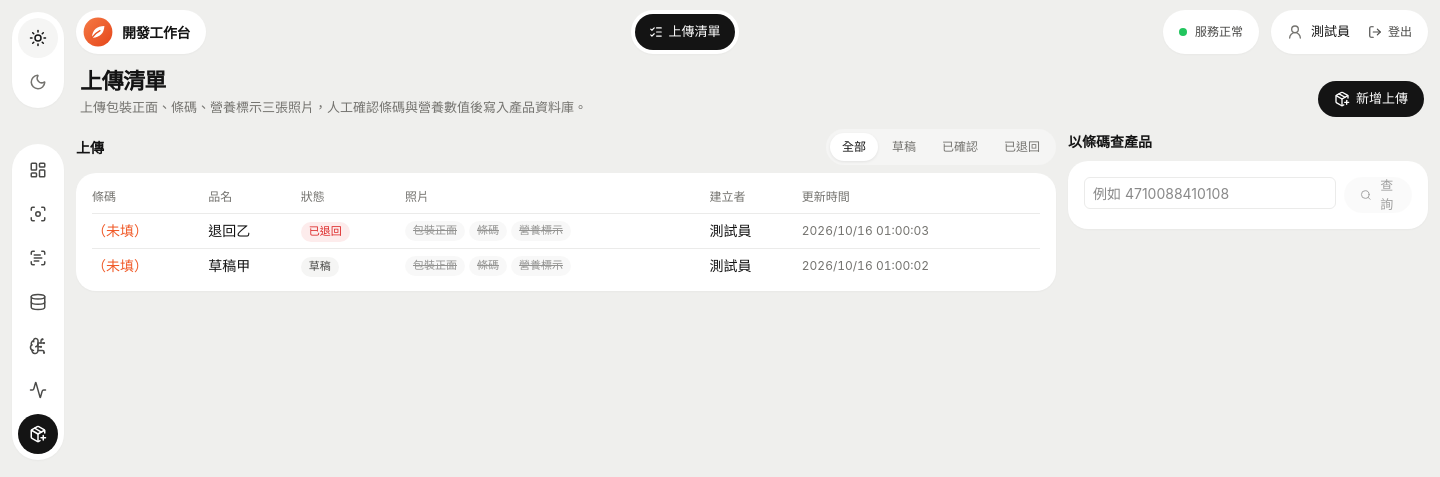
上傳清單 › 依狀態篩選
Check: the link "草稿甲" is shown, box x1=208 y1=257 x2=250 y2=274
Check: the link "退回乙" is shown, box x1=208 y1=222 x2=250 y2=239
Click the radio button labelled "已退回".
click(1022, 147)  # box x1=992 y1=133 x2=1052 y2=161
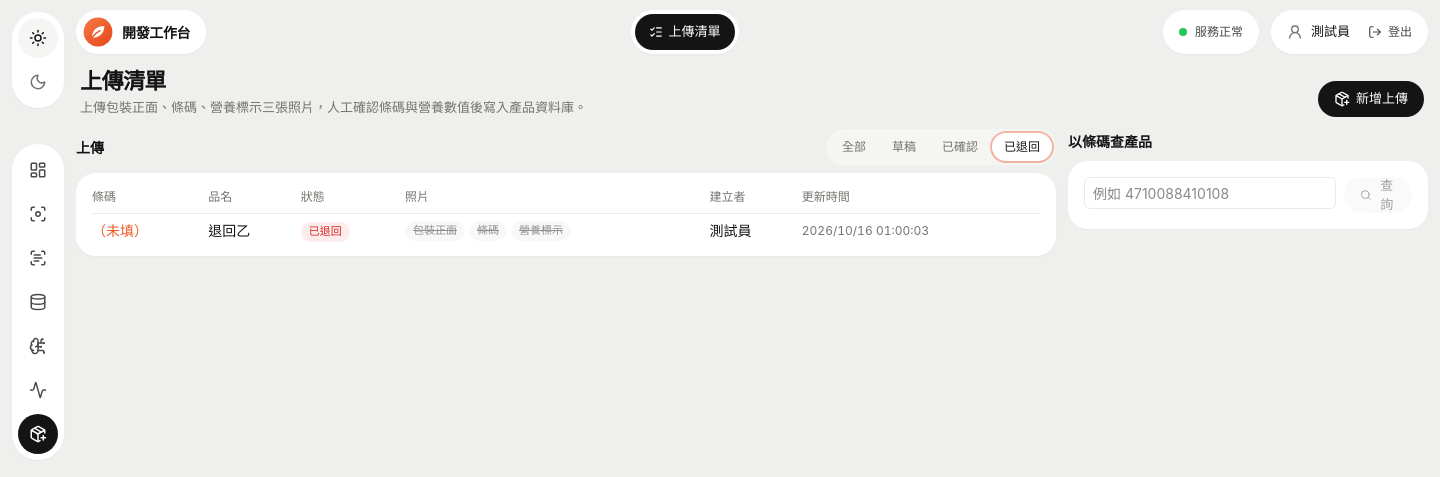
Check: the link "退回乙" is shown, box x1=208 y1=222 x2=250 y2=239
Check: the link "草稿甲" is gone
